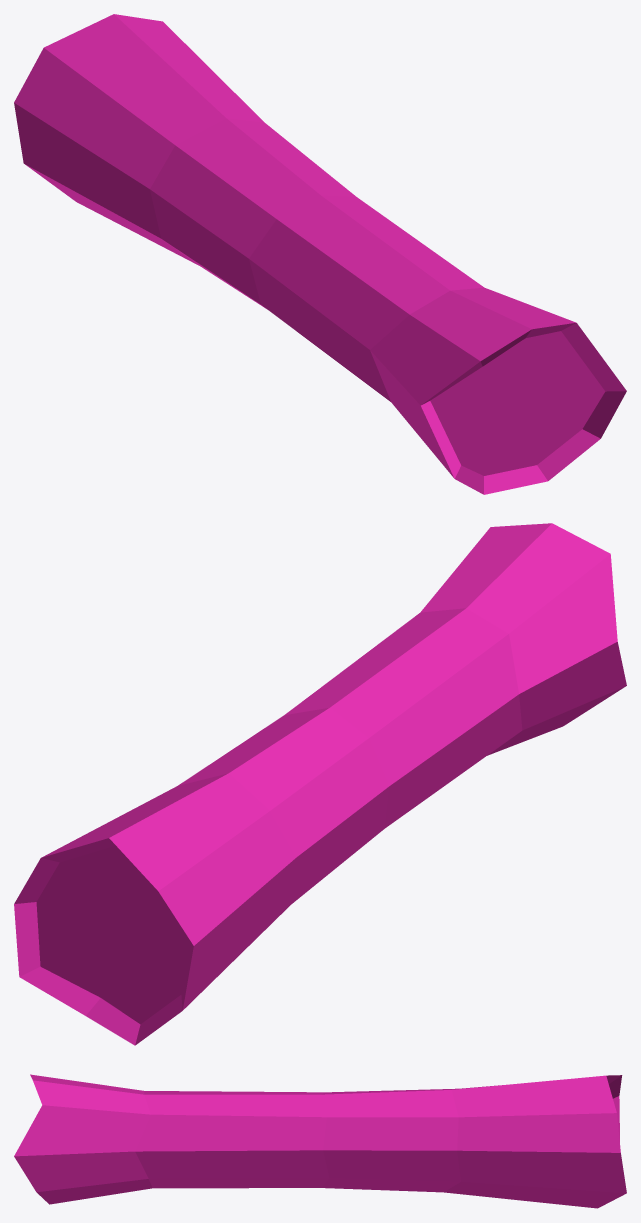
The model's file is Logs.fbx.
3 views of the same model, one above another, from view 1: azimuth 30°, elevation 25°; view 2: azimuth 150°, elevation 25°; view 3: azimuth 270°, elevation 25° (orthographic). The views are drawn at different scales.
Visible parts, largest first — view 1: Cylinder, Cylinder.001; view 2: Cylinder, Cylinder.002; view 3: Cylinder.
Part boxes in pixels (x1,y1,x2,y2): Cylinder: (14, 14, 626, 494); Cylinder.001: (430, 331, 605, 475); Cylinder: (14, 523, 626, 1045); Cylinder.002: (36, 845, 190, 1024); Cylinder: (14, 1074, 626, 1208).
Bounding box in the file's own units: 195 × 203 × 890.
